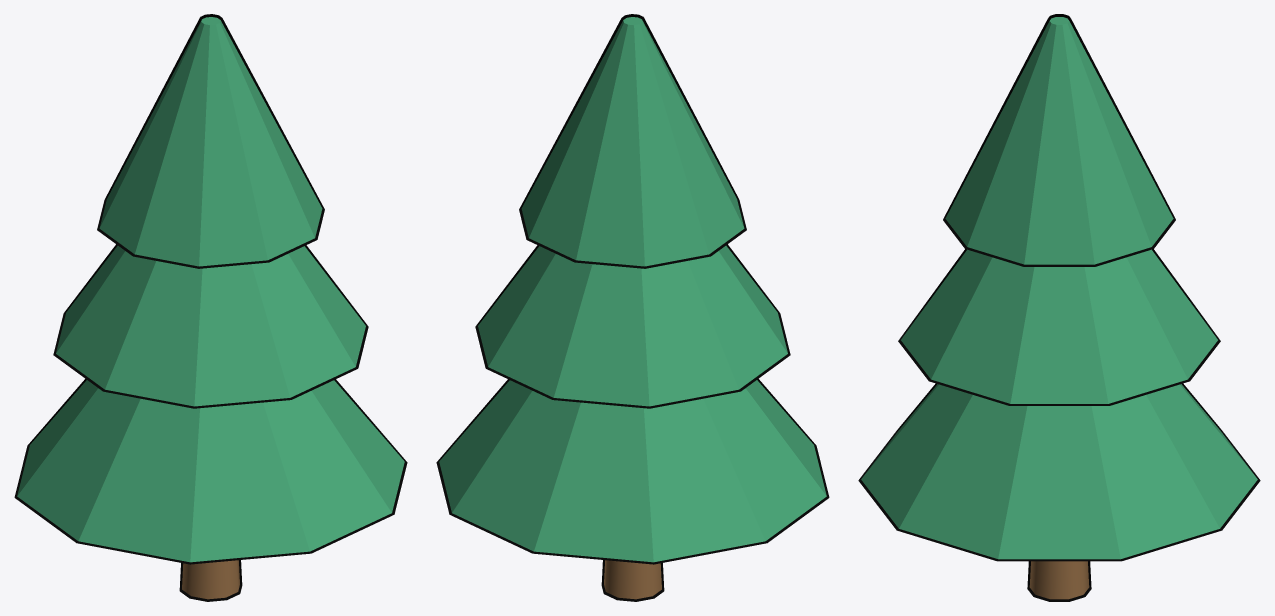
Rendered from Tree_Pine.fbx.
The picture shows the model from 3 angles, left to right: view 1: azimuth 30°, elevation 25°; view 2: azimuth 150°, elevation 25°; view 3: azimuth 270°, elevation 25°; orthographic projection.
Visible parts, largest first — view 1: Tree_Pine; view 2: Tree_Pine; view 3: Tree_Pine.
Boxes of the visible parts, x1,y1,x2,y2 form: Tree_Pine: [14, 14, 407, 601]; Tree_Pine: [436, 14, 829, 601]; Tree_Pine: [858, 14, 1260, 601].
Size of the model in its own units: 7.71 by 12.69 by 8.11.
